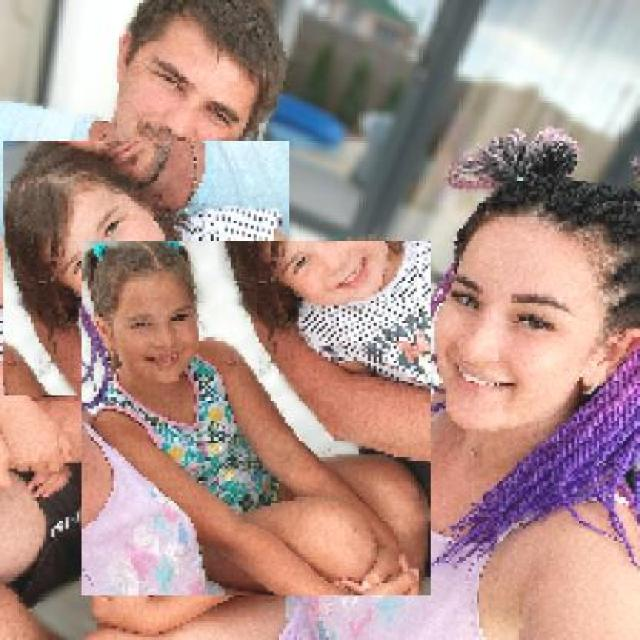child: (80, 240, 431, 597), (2, 140, 289, 397)
